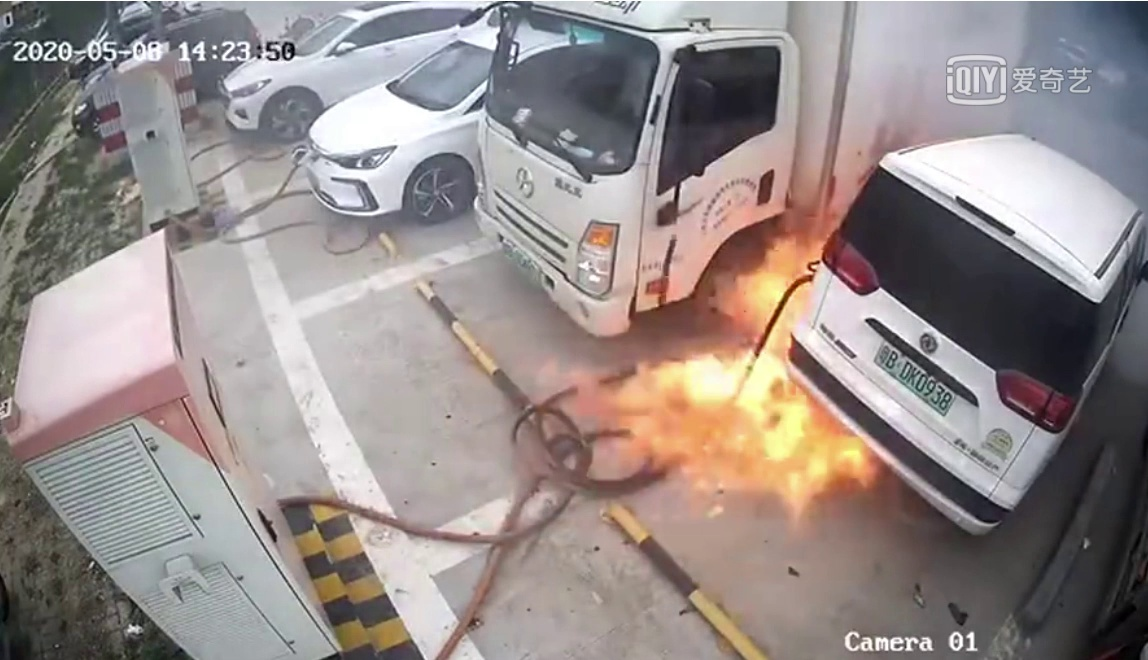fire: (604, 268, 853, 504)
